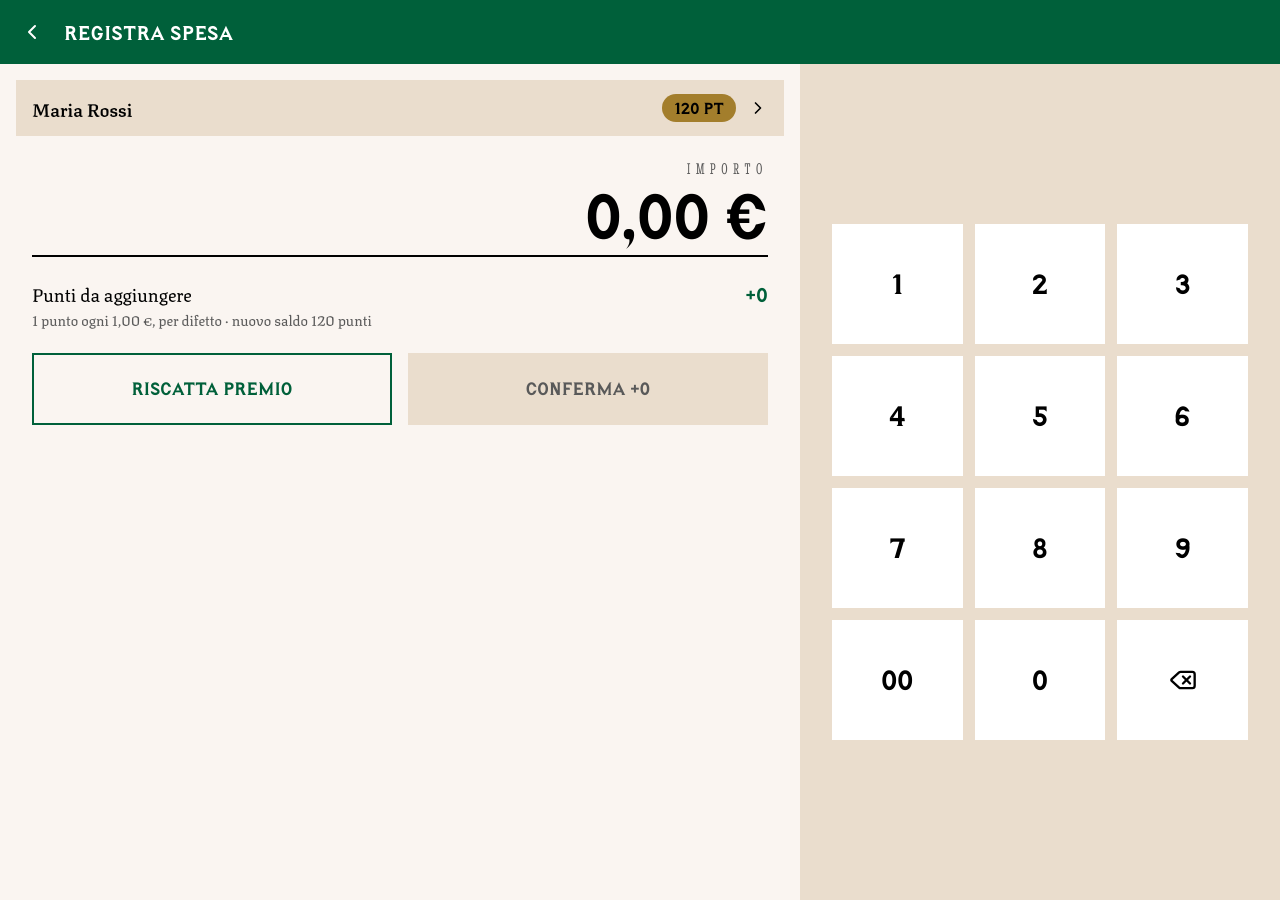
Test: Registra spesa at 1280×800 (wireframe "Tablet: registra spesa") › records the purchase as on the phone
The image size is (1280, 900).
Step 1. Click the button "1" → (897, 284), box [832,224,963,344]
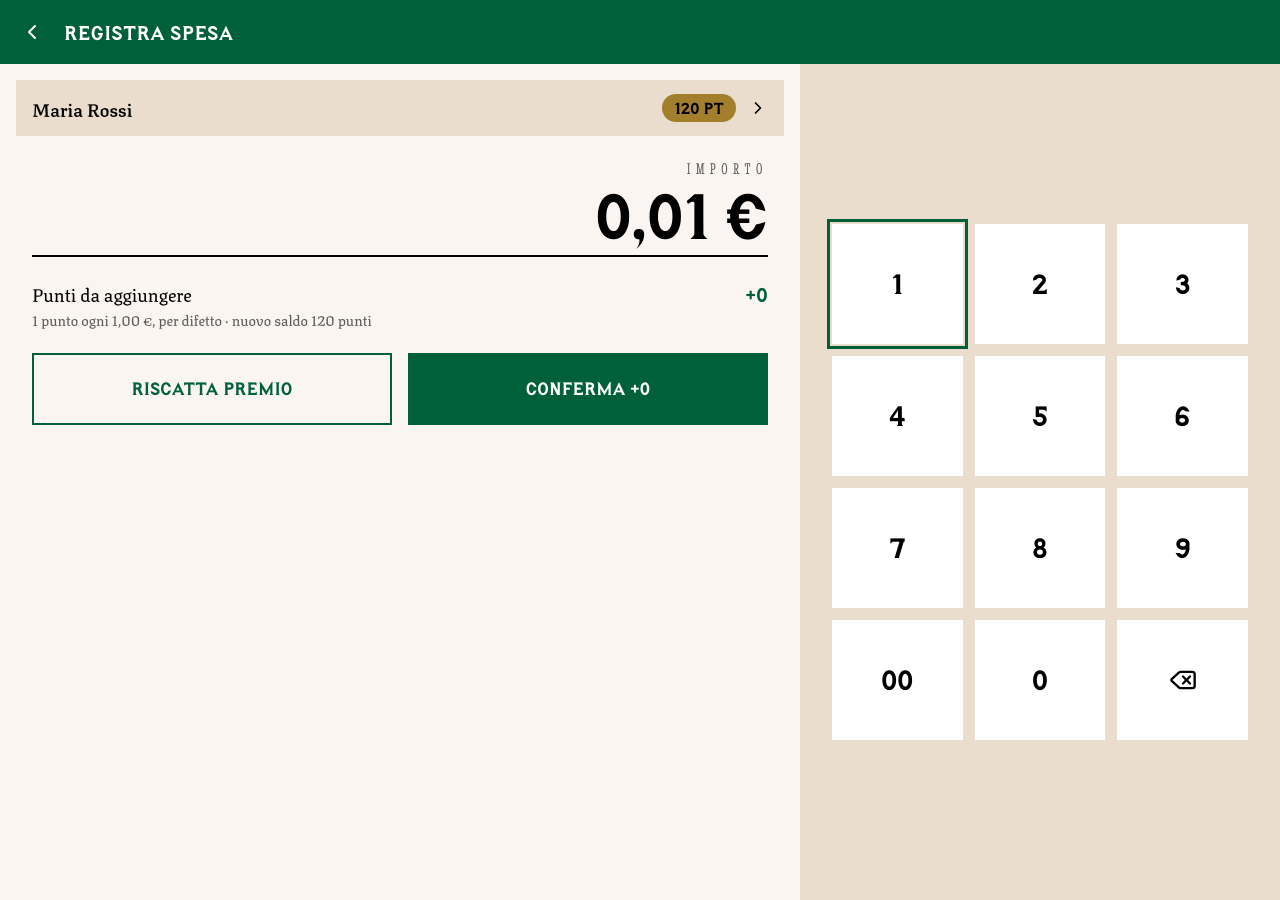
Step 2. Click the button "2" → (1040, 284), box [975,224,1105,344]
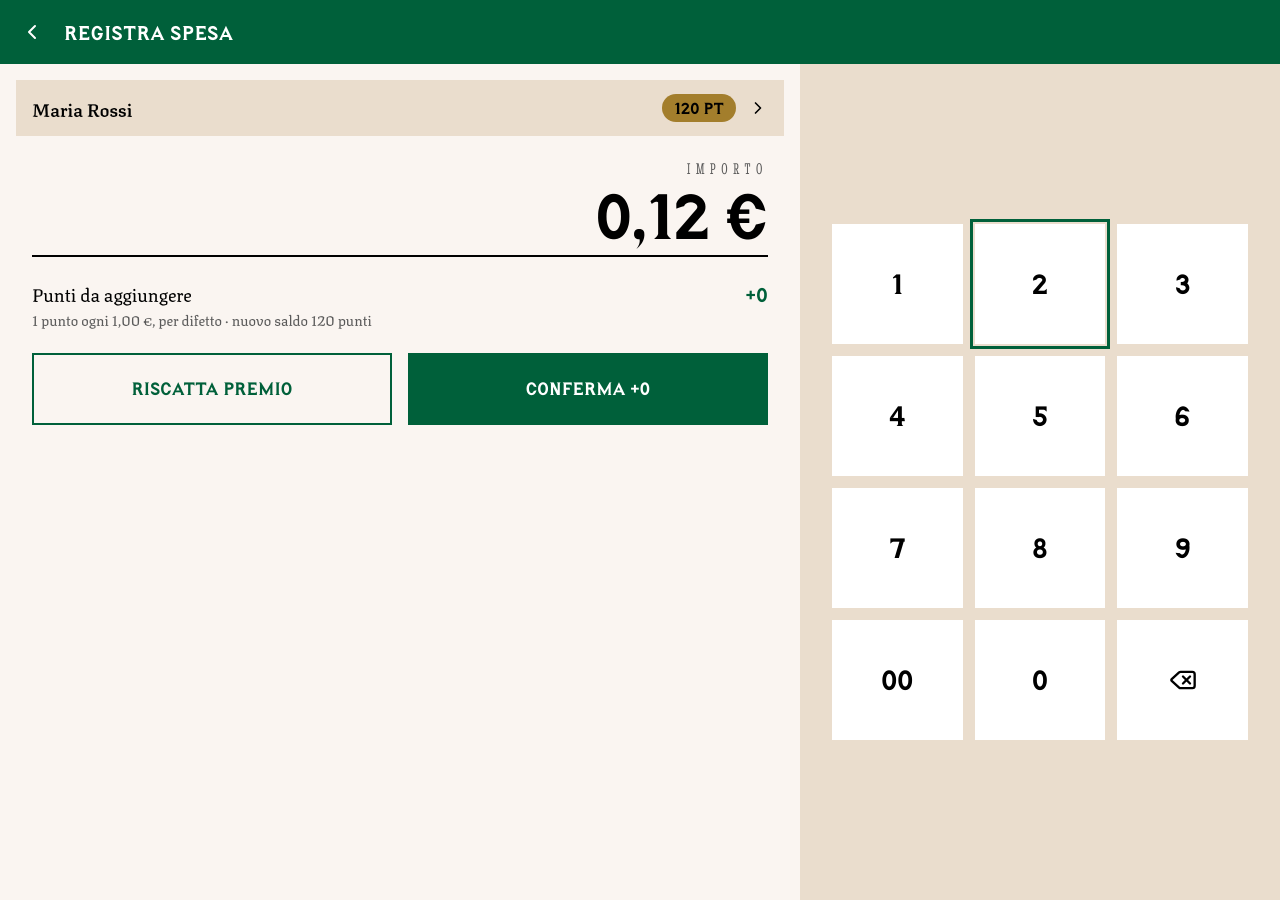
Step 3. Click the button "5" → (1040, 416), box [975,356,1105,476]
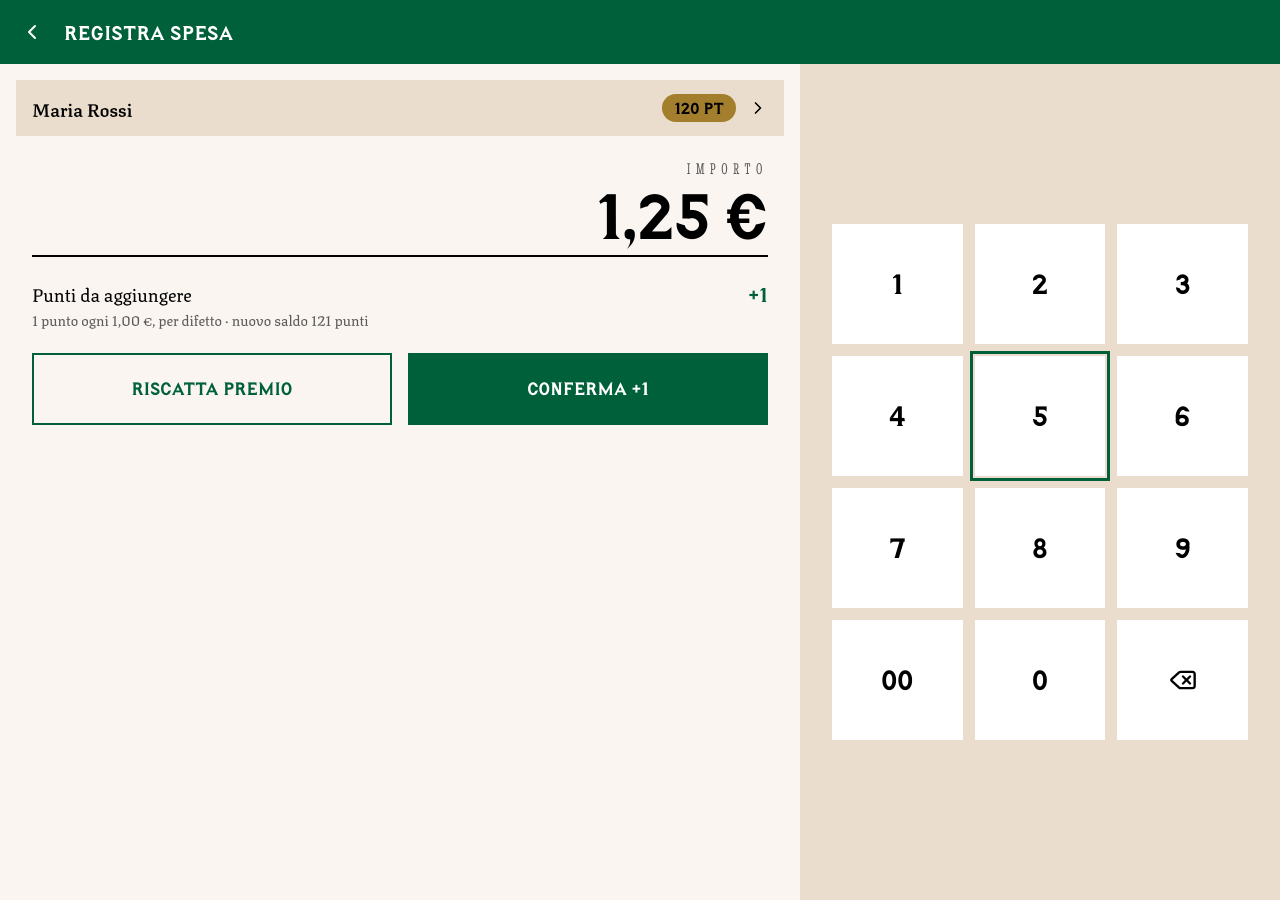
Step 4. Click the button "0" → (1040, 680), box [975,620,1105,740]
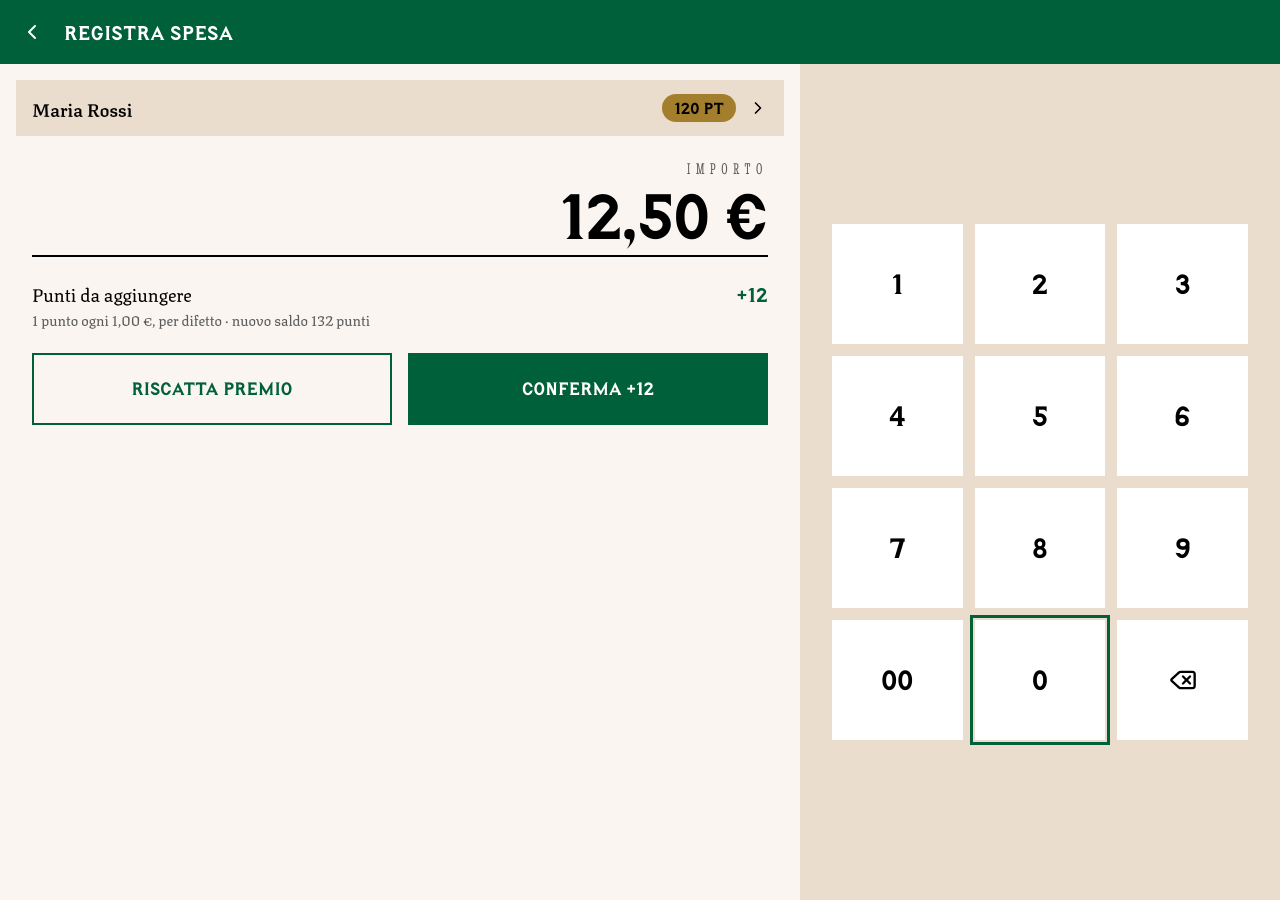
Step 5. Click the button "Conferma +12" → (588, 390), box [408,354,768,426]
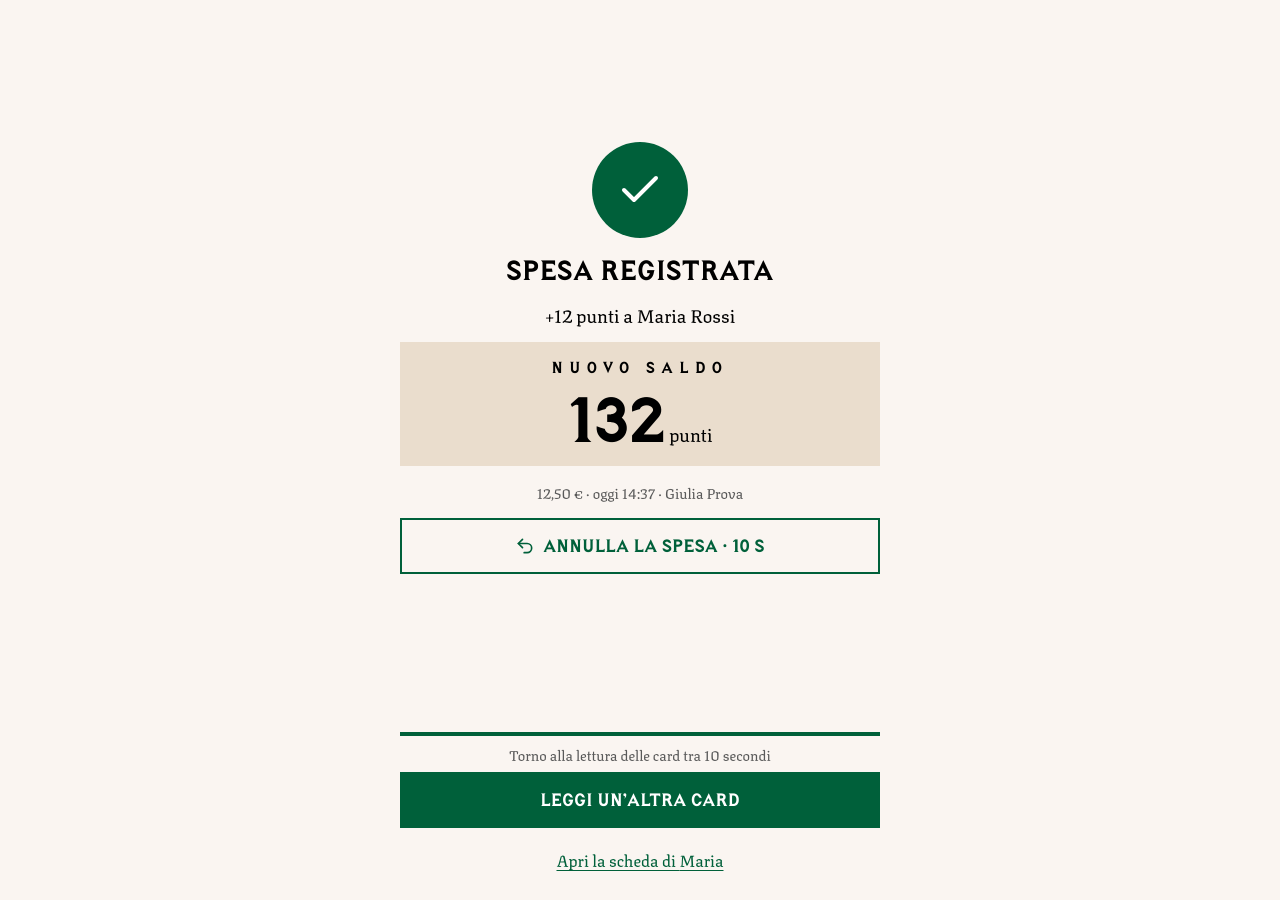
Expected: the heading "Spesa registrata" is shown, [506,254,774,286]
